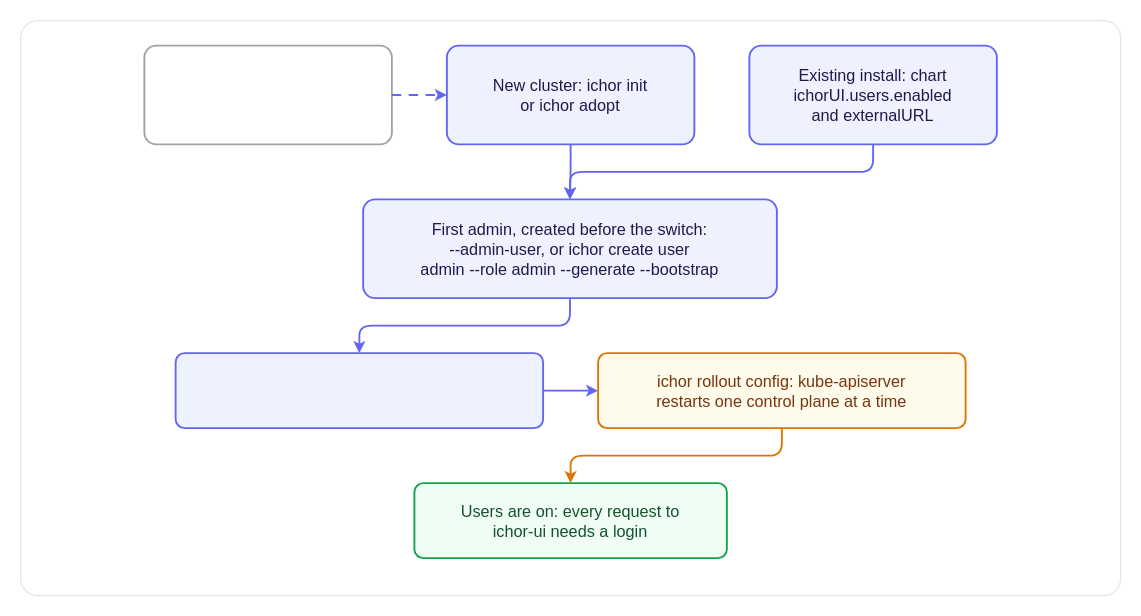
Image size: 1141x616. Some labels were removed from this diagram. Here are the shapes that lost their labels. From the top down, the centre of each, then its label:
At point 267,94: "Pick an https URL".
At point 359,390: "spec.authentication.ichor enabled: true, url".
